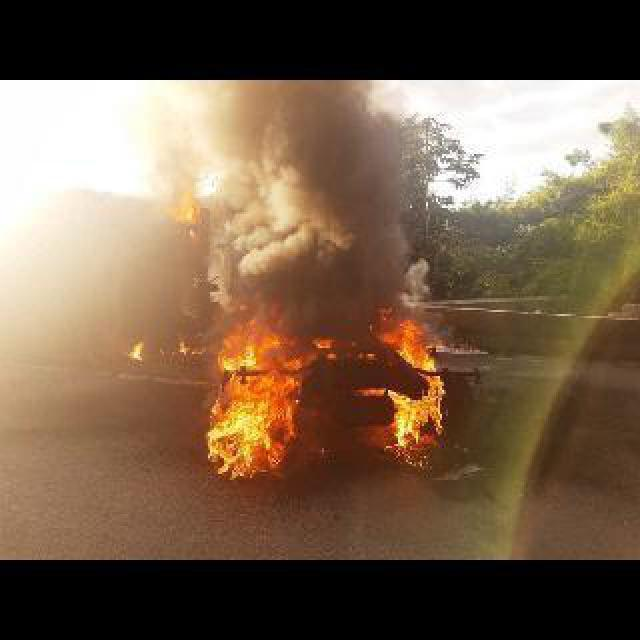Fire: (208, 316, 302, 478), (368, 308, 448, 470), (174, 190, 198, 220), (312, 338, 342, 358), (120, 340, 144, 358)
Smoke: (200, 82, 444, 326)
